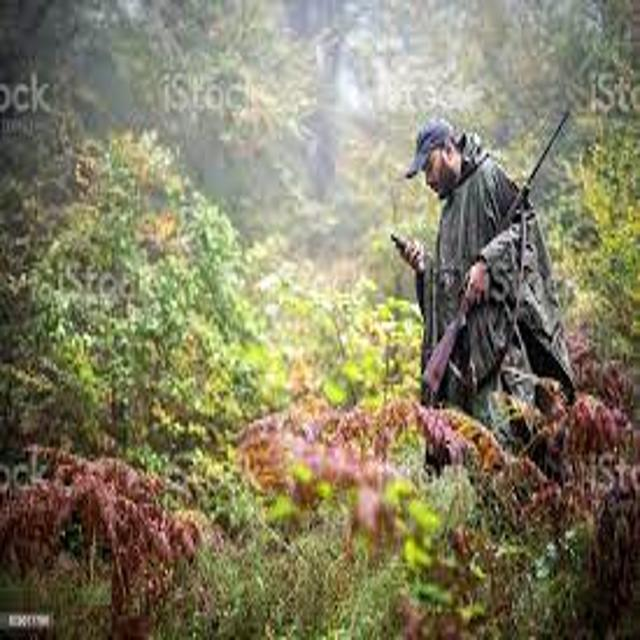gun: (398, 97, 595, 415)
poacher: (362, 90, 620, 481)
